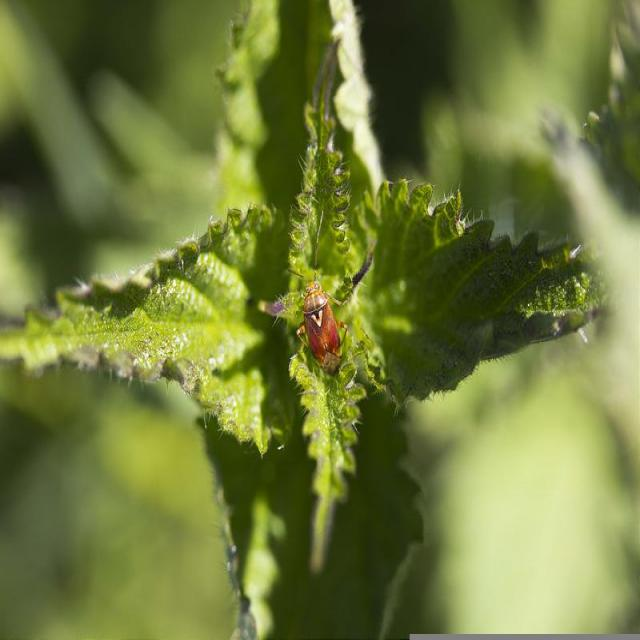Miridae-Adult-: (282, 224, 351, 387)
